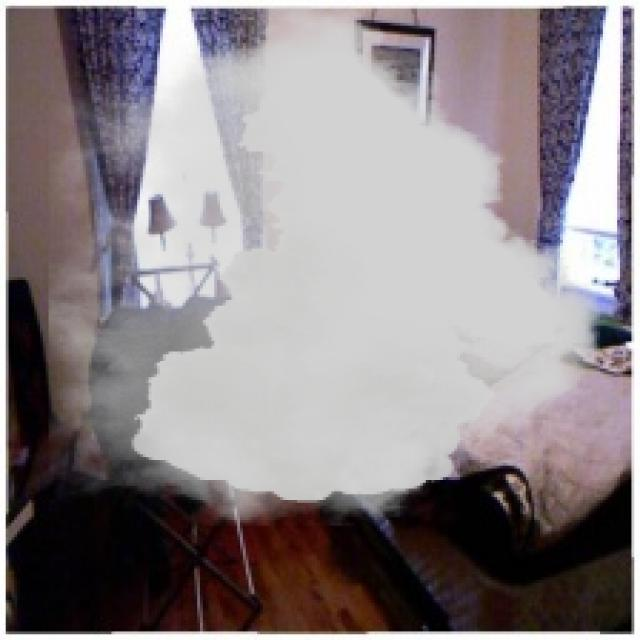smoke: (49, 6, 600, 526)
